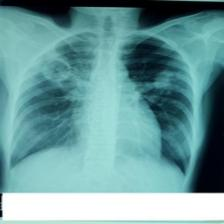tuberculosis: (1, 23, 201, 193)
